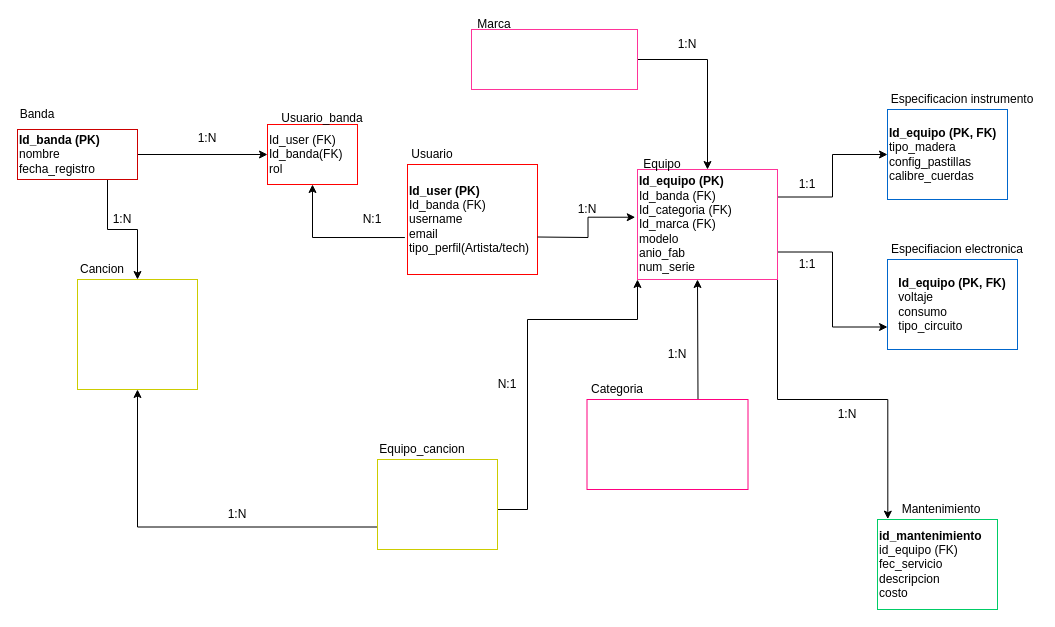
This 1055x627 diagram has some shape labels left out. The shapes that lost their labels are listed below. From the top down, each one's centre as x and y in pixels, then its label:
pixel 554 59: Id_marca (PK) nombre (Fender, Vox, Jackson, Boss, Valeton, etc. )
pixel 137 334: Id_cancion Id_banda titulo artista bpm tonalidad duracion
pixel 667 444: Id_categoria (PK) nombre (bajo,guitarra, pedal)
pixel 437 504: id_cancion (FK) id_equipo (FK) posicion_cadena seteo
